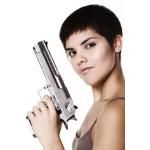Pistol: (26, 38, 78, 138)
